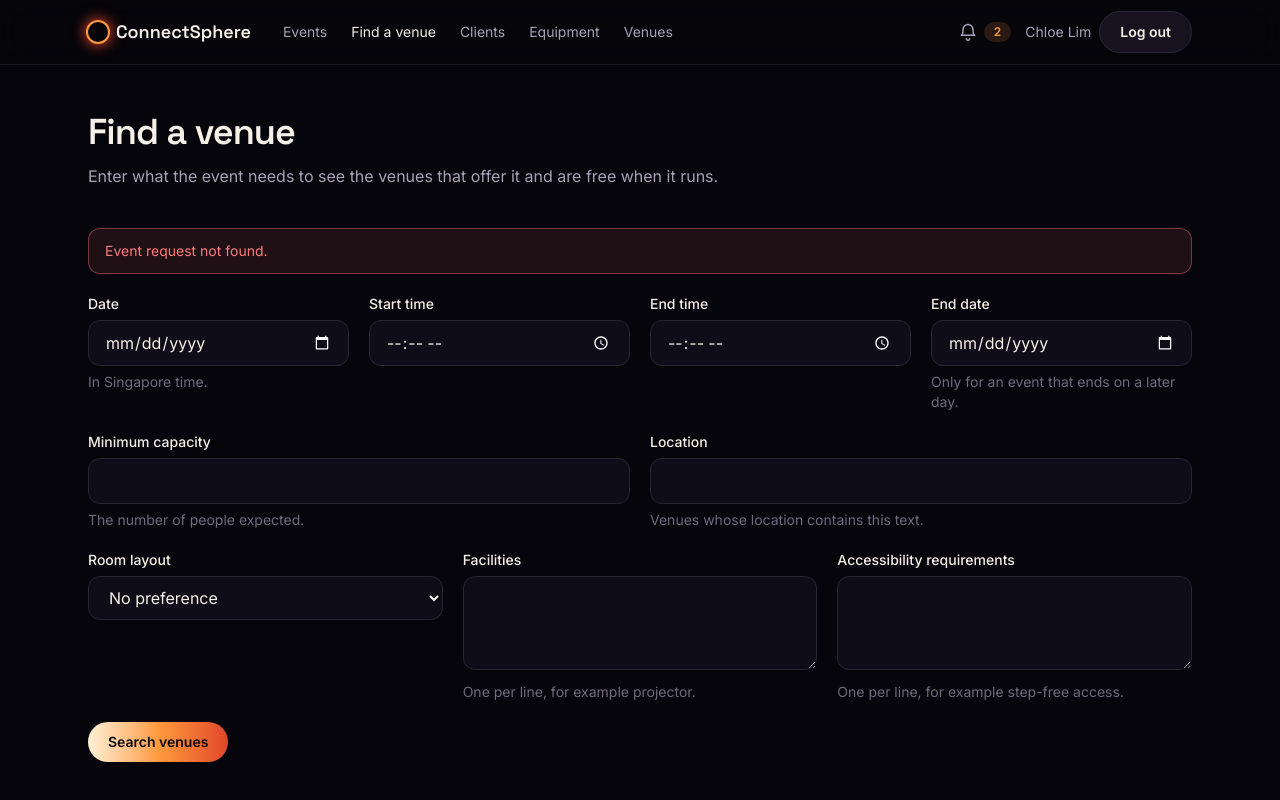
Test: SCRUM-90 venue search opened from an event › shows the backend's message for an event the coordinator may not open, and still searches
The image size is (1280, 800).
Expected: the message reads "Event request not found.", [105, 242, 268, 259]
Type "2026-11-20" into the date field labelled "Date" at point(218, 343), box [88, 320, 349, 366]
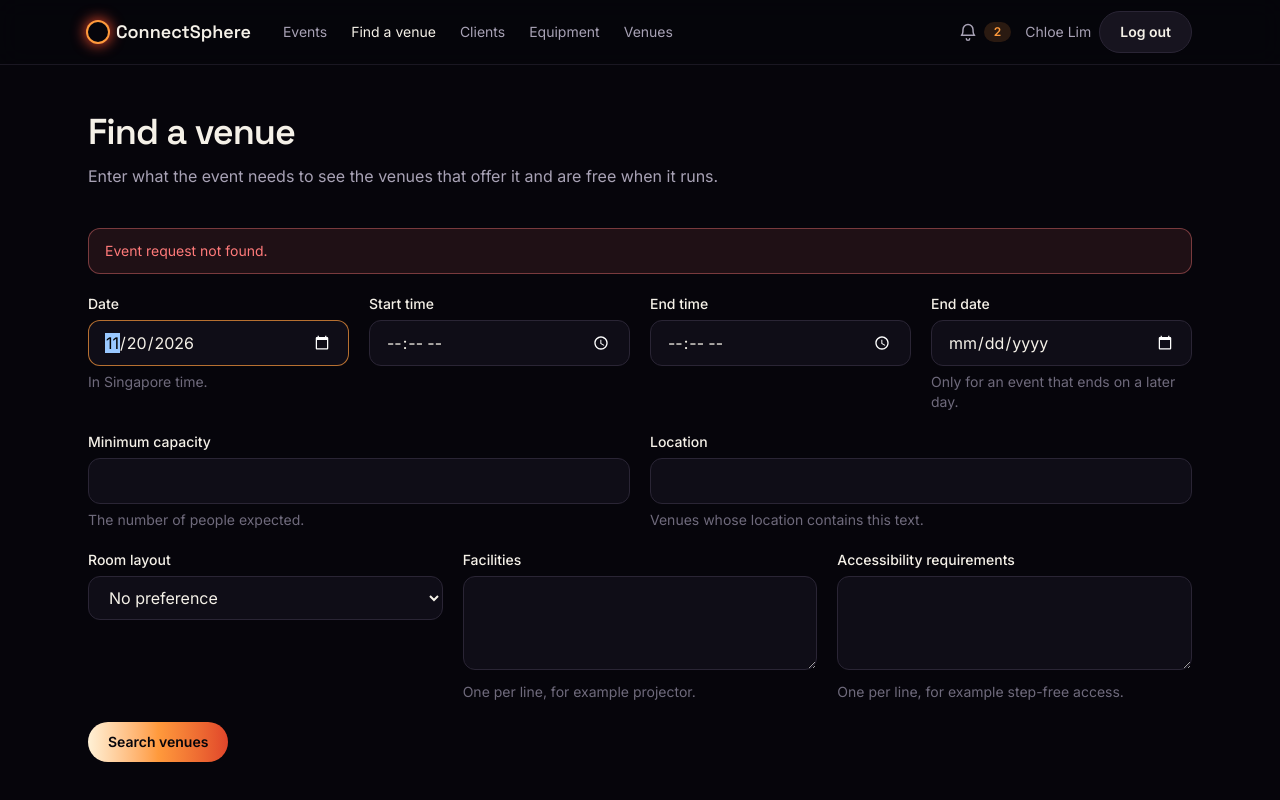
Type "09:00" into the time field labelled "Start time" at point(500, 343), box [369, 320, 630, 366]
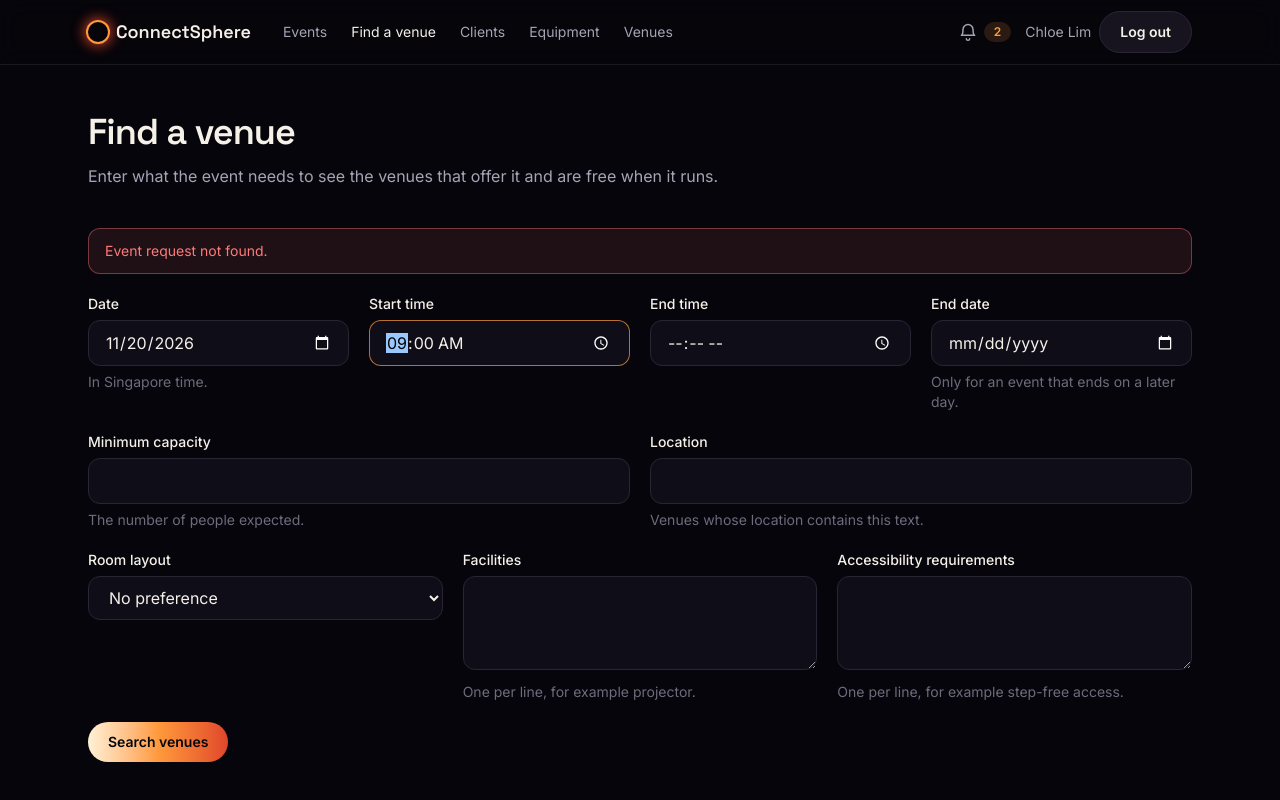
Type "17:00" into the time field labelled "End time" at point(780, 343), box [650, 320, 911, 366]
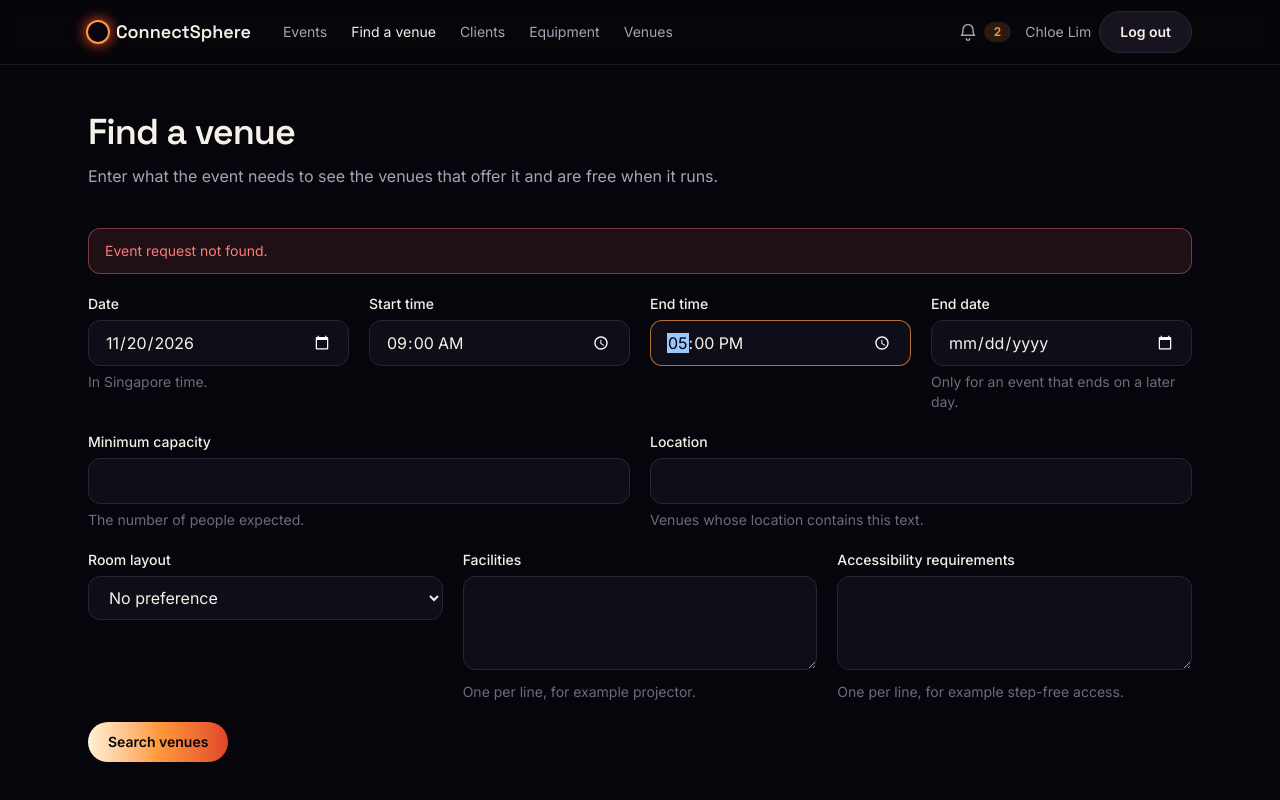
Type "120" into the number field labelled "Minimum capacity" at point(359, 481), box [88, 458, 630, 504]
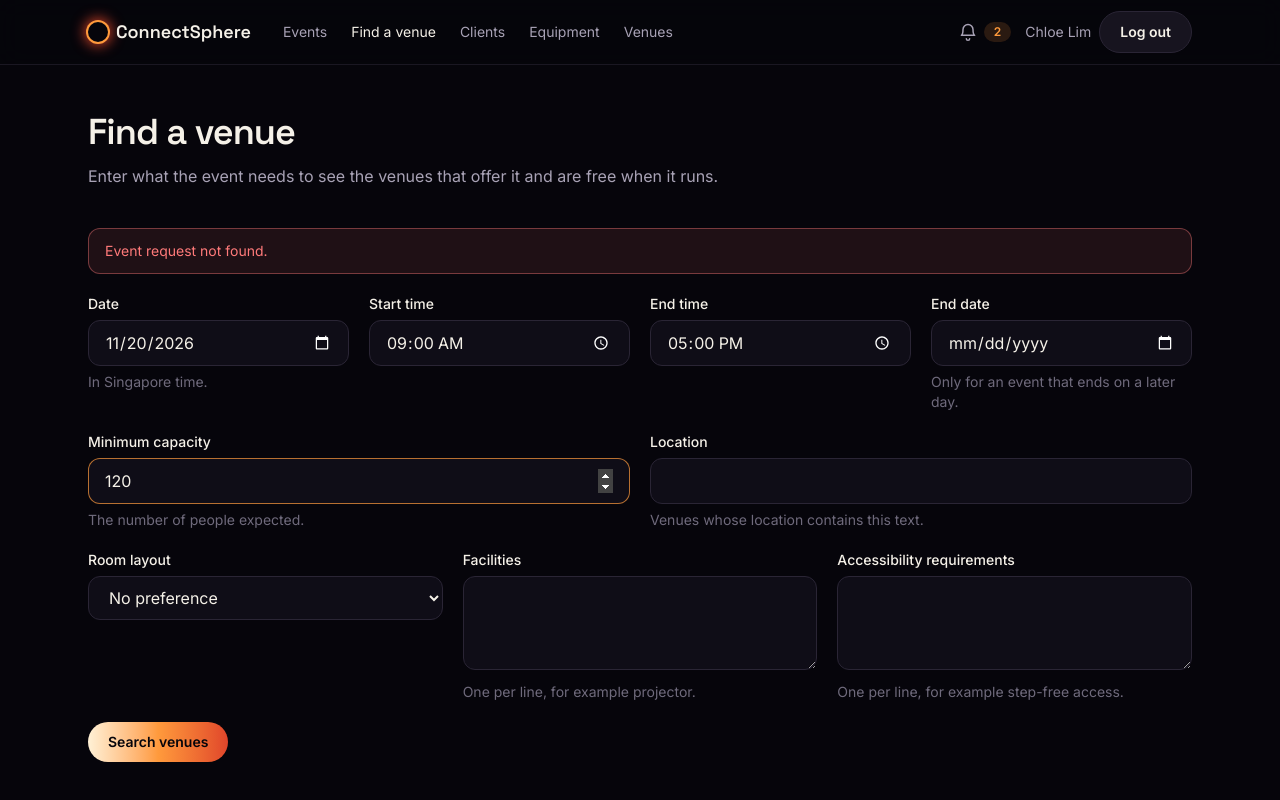
Click the button "Search venues" at point(158, 742), box [88, 722, 228, 762]
(page scrolled)
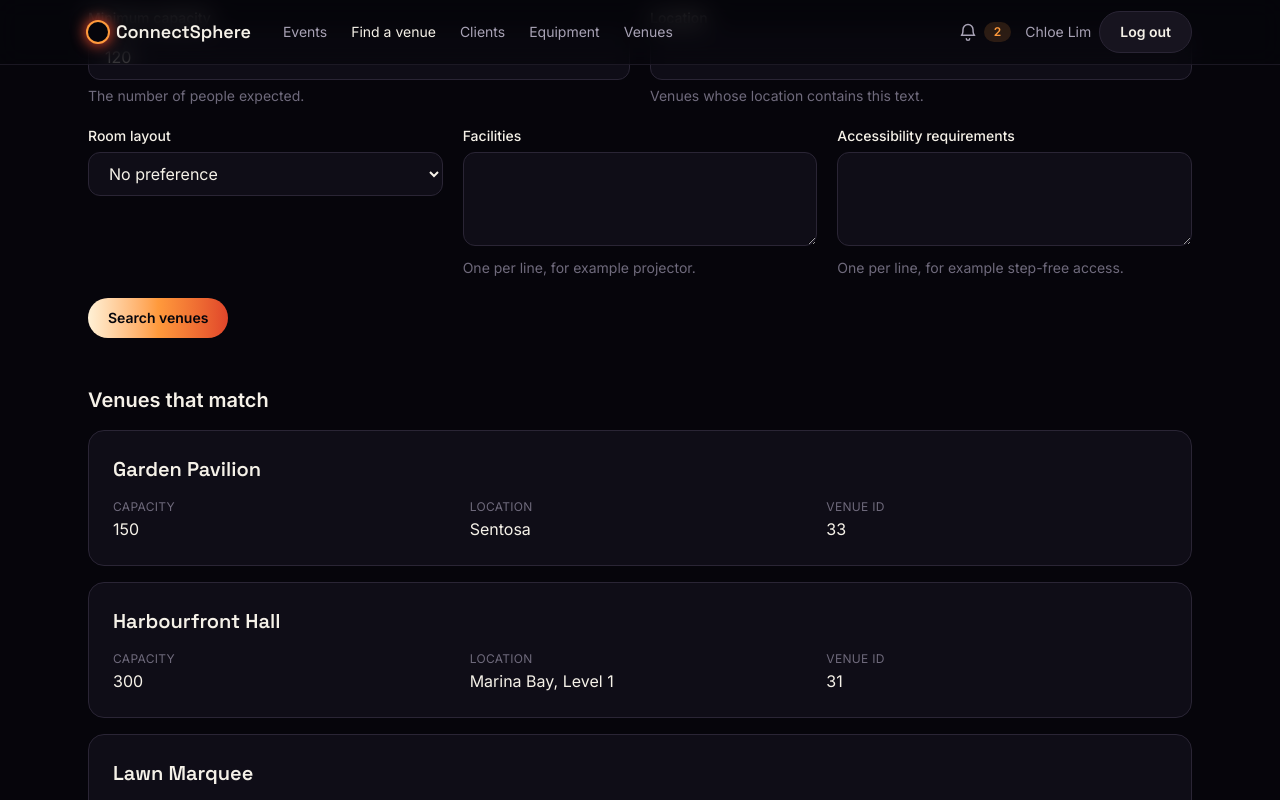
Expected: the heading "Venues that match" is shown, [88, 388, 269, 412]
